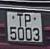0: (17, 26, 25, 42), (25, 27, 33, 43)
3: (32, 27, 41, 43)
5: (9, 25, 18, 43)
P: (24, 12, 32, 28)
T: (16, 13, 25, 28)
